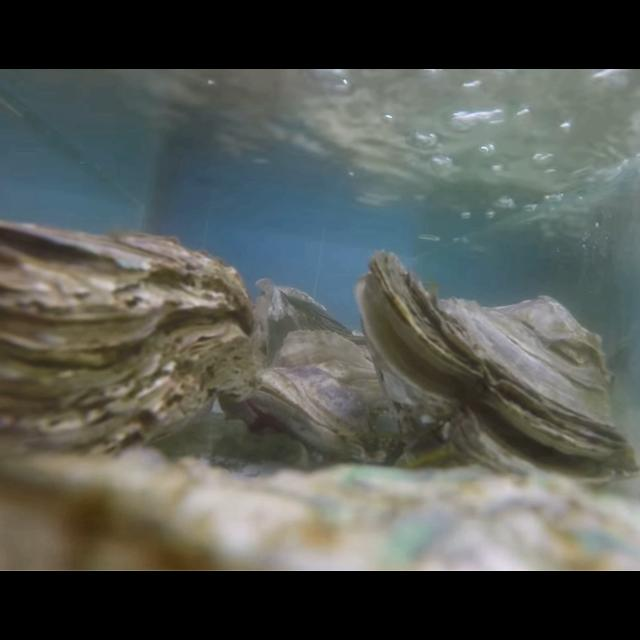Oyster-Closed: (0, 220, 256, 492), (249, 328, 416, 468)
Oyster-Indeterminate: (0, 446, 640, 572), (254, 274, 370, 364)
Oyster-Open: (354, 250, 640, 494)
